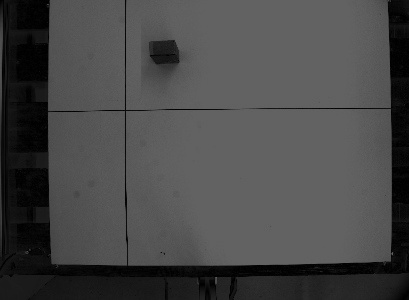b1: (147, 36, 181, 66)
